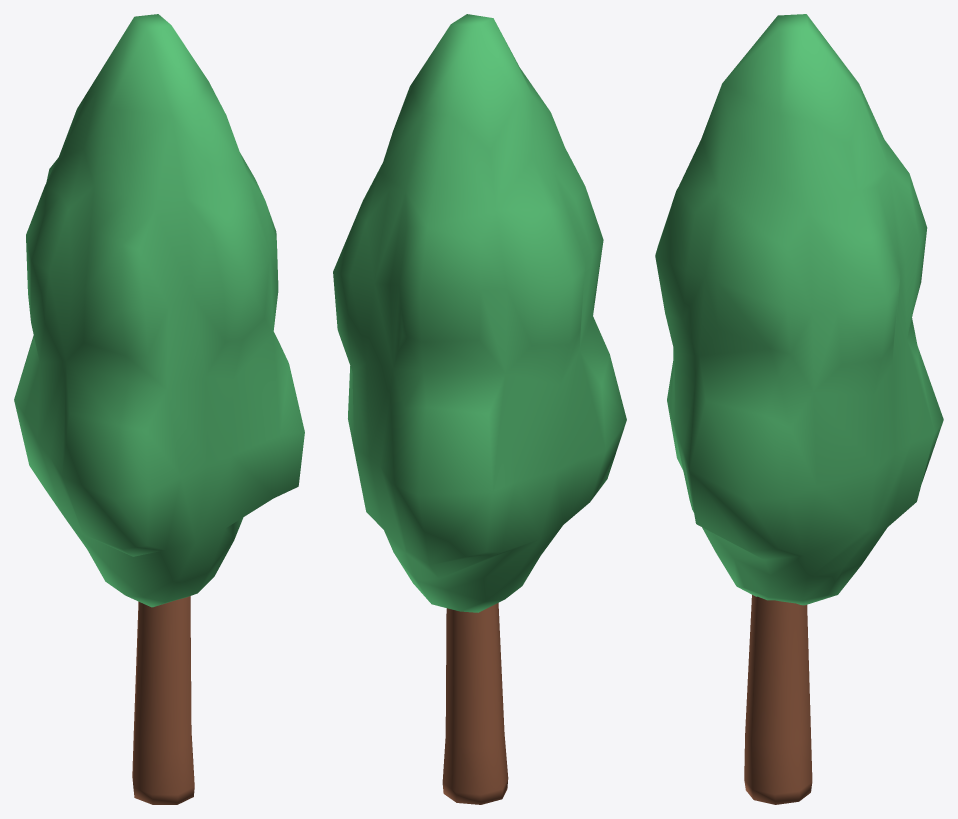
Rendered from Tree_E_03_LOD2.gltf.
The picture shows the model from 3 angles, left to right: view 1: azimuth 30°, elevation 25°; view 2: azimuth 150°, elevation 25°; view 3: azimuth 270°, elevation 25°; orthographic projection.
Visible parts, largest first — view 1: Tree_E_03_LOD2_Cylinder.661; view 2: Tree_E_03_LOD2_Cylinder.661; view 3: Tree_E_03_LOD2_Cylinder.661.
Boxes of the visible parts, box(x1,y1,x2,y2) form: Tree_E_03_LOD2_Cylinder.661: box(14, 14, 304, 804); Tree_E_03_LOD2_Cylinder.661: box(333, 14, 626, 804); Tree_E_03_LOD2_Cylinder.661: box(655, 14, 943, 804).
Bounding box in the file's own units: 4.45 × 13.78 × 4.68.
1 material, 1 textured.
